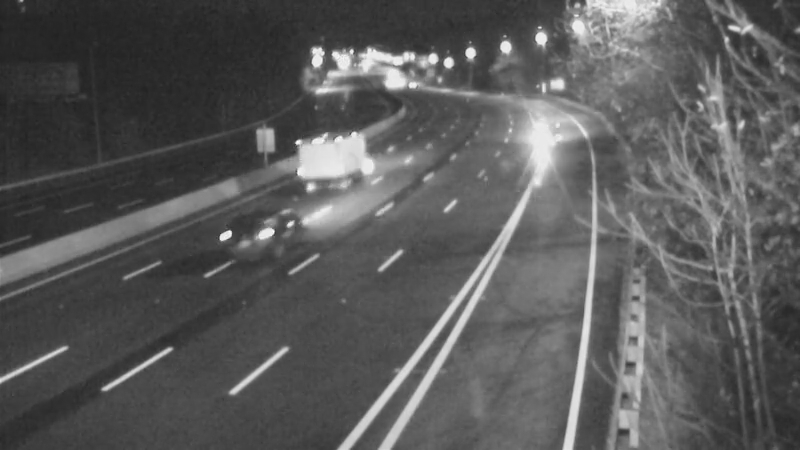vehicle: (287, 119, 367, 199), (213, 185, 293, 265), (385, 61, 435, 111), (521, 107, 571, 157)
